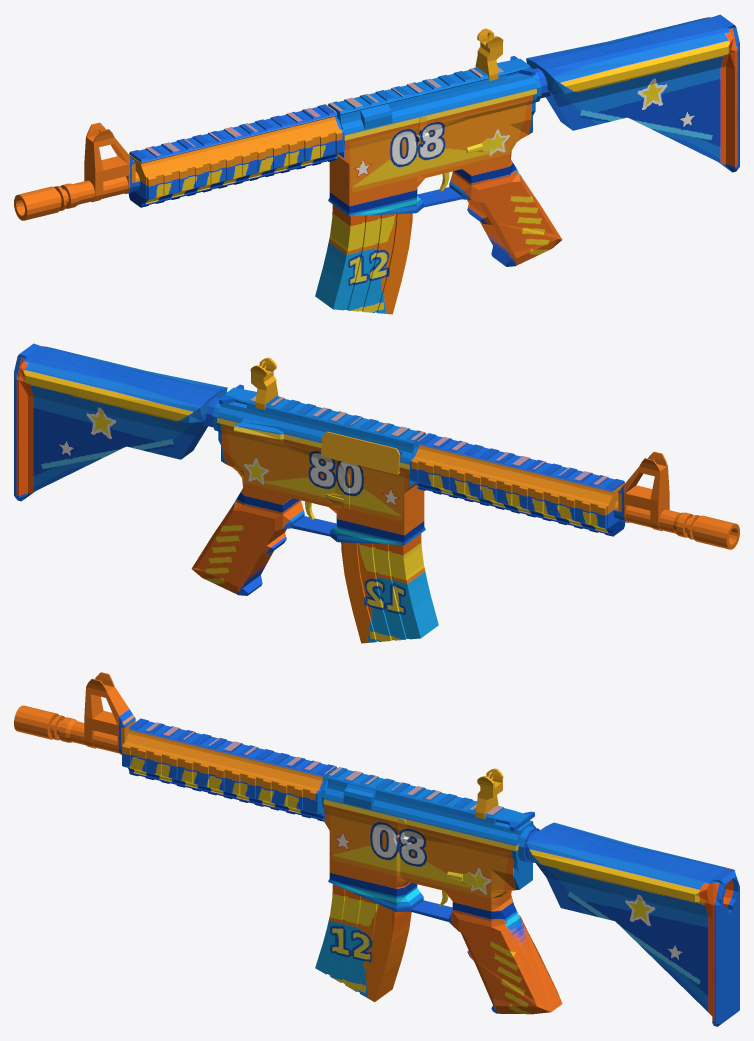
File: m4a4_blaster.glb
The picture shows the model from 3 angles, top to bottom: view 1: azimuth 30°, elevation 25°; view 2: azimuth 150°, elevation 25°; view 3: azimuth 330°, elevation 25°; orthographic projection.
Visible parts, largest first — view 1: Main, Butt, Magazine, Sight; view 2: Main, Butt, Magazine, Gate, Sight; view 3: Main, Butt, Magazine, Sight.
Part boxes in pixels (box(x1,y1,x2,y2)): Main: box(14, 58, 562, 266); Butt: box(526, 14, 739, 172); Magazine: box(315, 204, 412, 314); Sight: box(475, 28, 503, 80); Main: box(191, 387, 739, 595); Butt: box(14, 343, 227, 501); Magazine: box(341, 533, 438, 643); Gate: box(321, 431, 400, 474); Sight: box(250, 357, 278, 409); Main: box(14, 672, 725, 1014); Butt: box(526, 822, 739, 1026); Magazine: box(315, 884, 411, 1002); Sight: box(475, 768, 503, 819).
Size of the model in its own units: 0.7724 by 0.2598 by 0.0627.
Materials: 8 (8 with a texture image).
